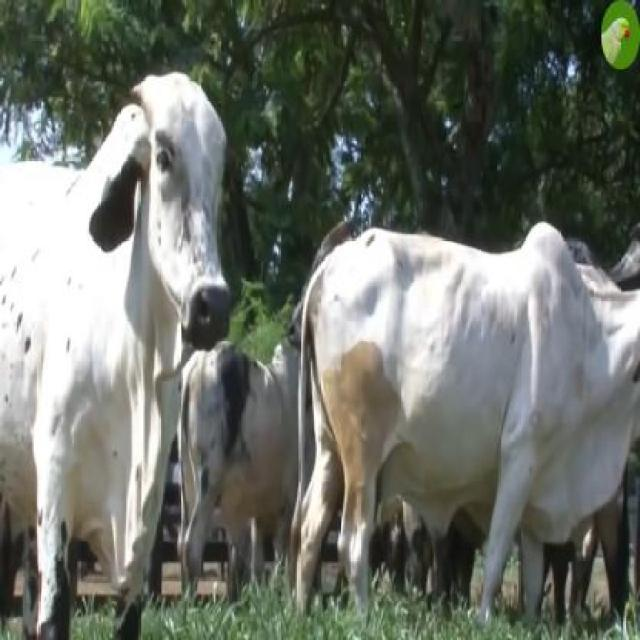Cow: (0, 71, 234, 638)
